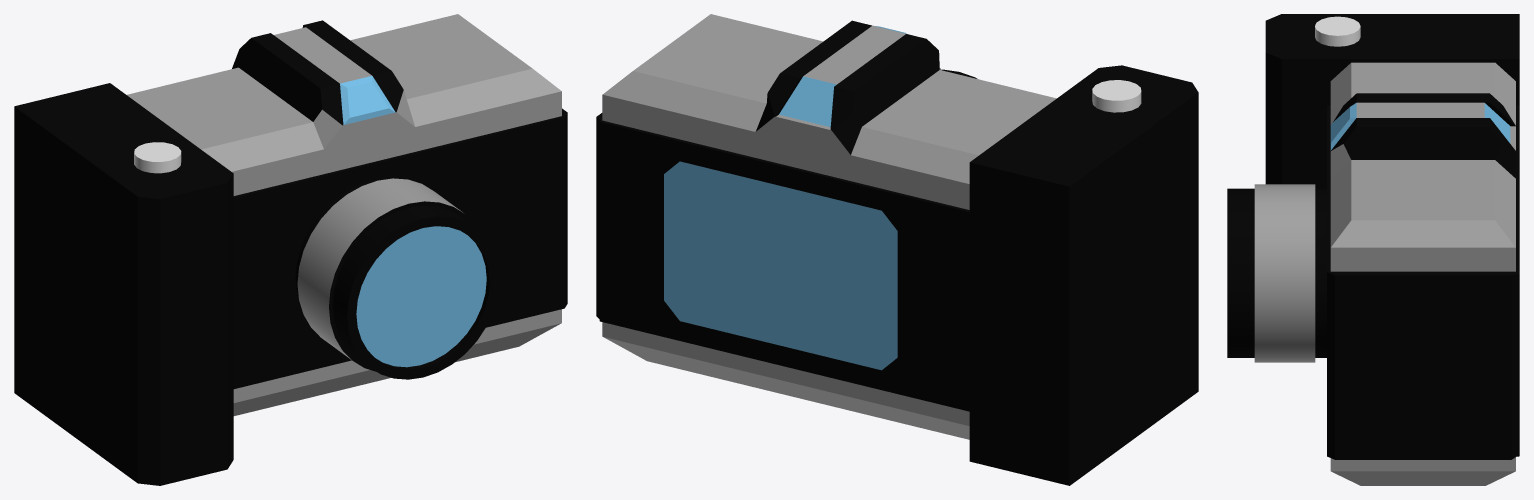
The model's file is CameraModel.fbx.
The picture shows the model from 3 angles, left to right: view 1: azimuth 30°, elevation 25°; view 2: azimuth 150°, elevation 25°; view 3: azimuth 270°, elevation 25°; orthographic projection. The views are drawn at different scales.
Visible parts, largest first — view 1: Body, Lens, CaptureButton; view 2: Body, CaptureButton; view 3: Body, Lens, CaptureButton.
Part boxes in pixels (bbox=[...]): Body: bbox=[14, 14, 567, 485]; Lens: bbox=[295, 178, 499, 379]; CaptureButton: bbox=[134, 142, 181, 173]; Body: bbox=[596, 14, 1198, 485]; CaptureButton: bbox=[1092, 80, 1141, 112]; Body: bbox=[1265, 14, 1519, 485]; Lens: bbox=[1227, 184, 1326, 362]; CaptureButton: bbox=[1315, 16, 1360, 46].
Size of the model in its own units: 343 by 224 by 197.
